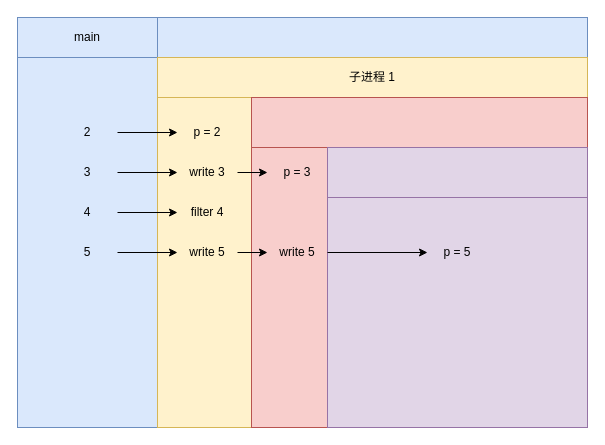
Some shapes in this 605 by 445 pixel diagram are drawn without their labels. Each missing label, with the box of its shape:
子进程 2: (250, 96, 588, 148)
子进程 3: (326, 146, 588, 198)
